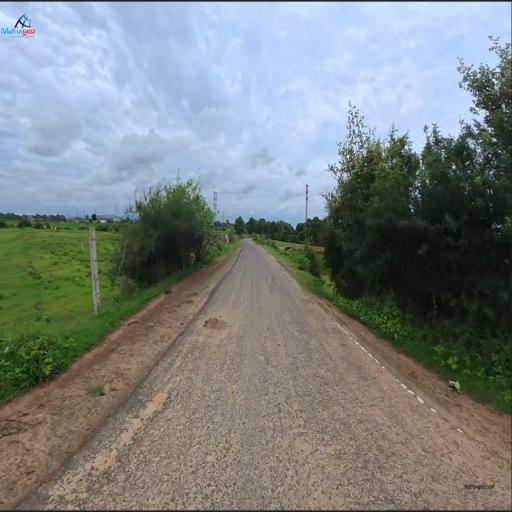ravelling: (146, 389, 300, 473)
